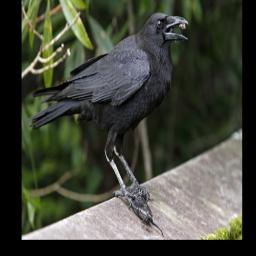Crow: (28, 11, 189, 211)
